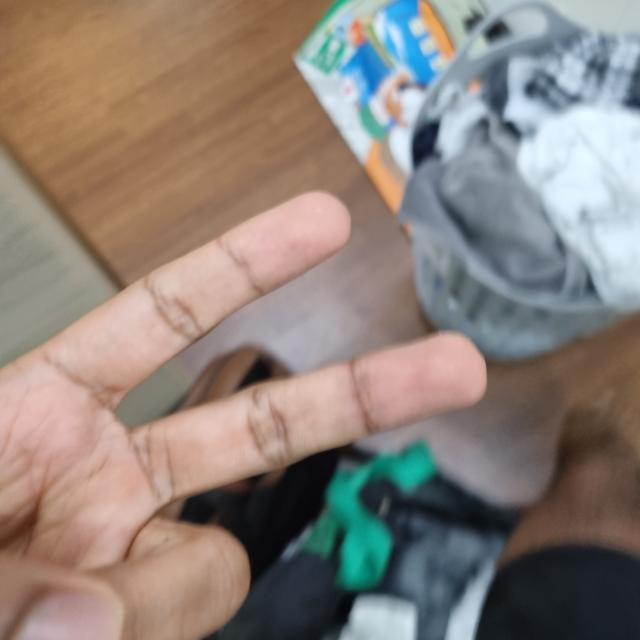Scissors: (0, 189, 486, 640)
